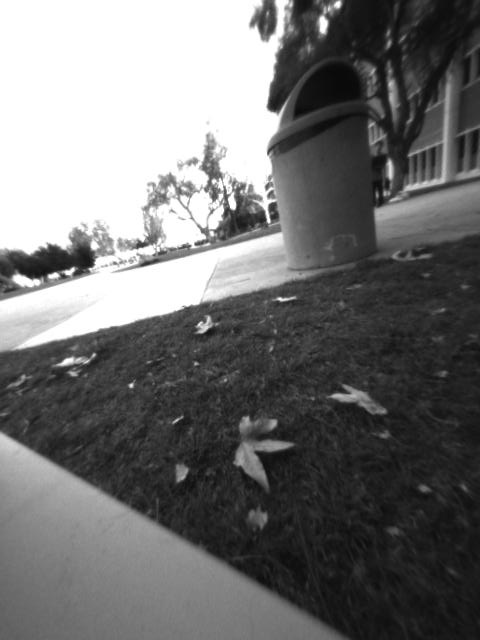trashcan: (265, 55, 383, 276)
